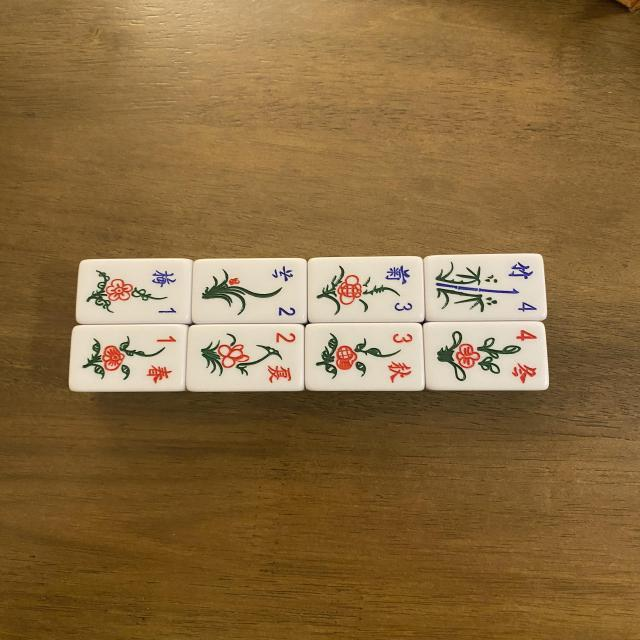bf1: (77, 256, 191, 324)
bf2: (194, 256, 308, 326)
bf3: (314, 259, 428, 325)
bf4: (432, 256, 540, 316)
bs1: (74, 328, 181, 390)
bs2: (192, 328, 298, 390)
bs3: (308, 326, 418, 389)
bs4: (424, 321, 552, 392)
